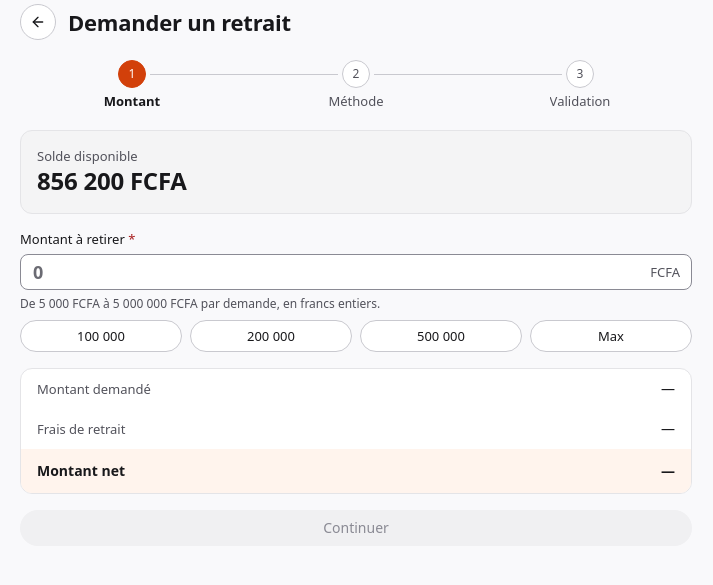
it: asking for a withdrawal › shows the refusal of the server under the field, and stops there
Type "9000000" into the field labelled "Montant à retirer *". click: {"x": 356, "y": 272}
box: [20, 254, 692, 290]
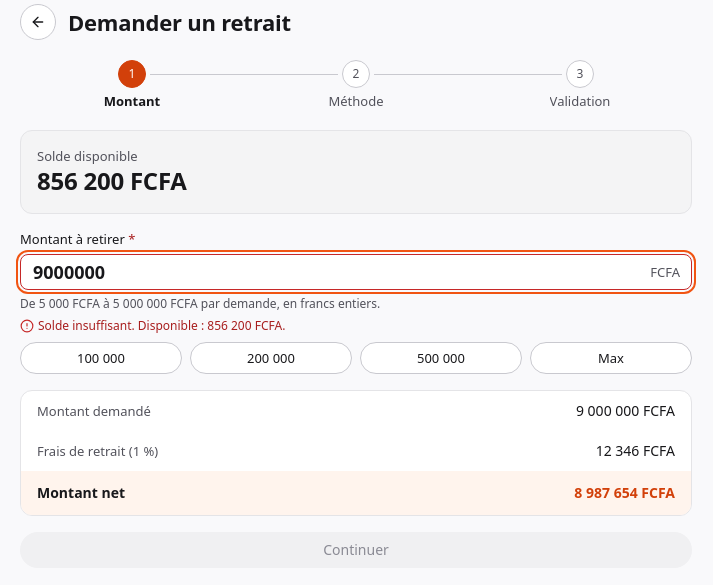
expect the button "Continuer" is disabled: met, box [20, 532, 692, 568]
expect the text "Solde insuffisant. Disponible : 856 200 FCFA." is shown: met, box [38, 318, 285, 334]
